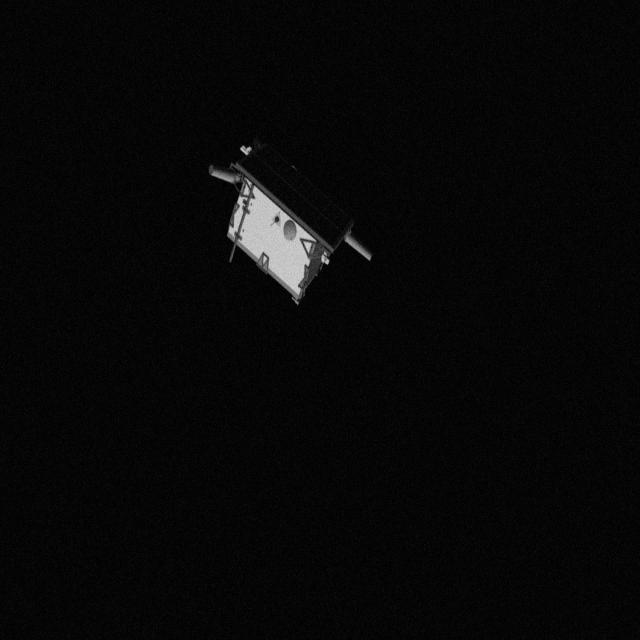satellite: (208, 132, 388, 302)
